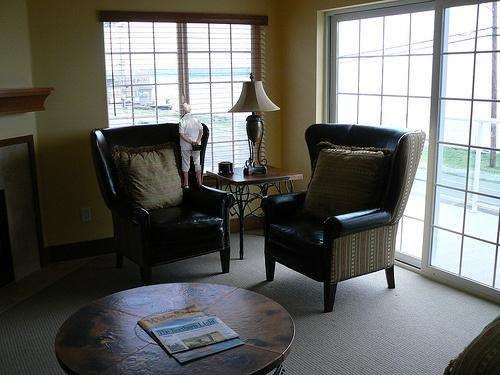tampered: (180, 104, 203, 188)
